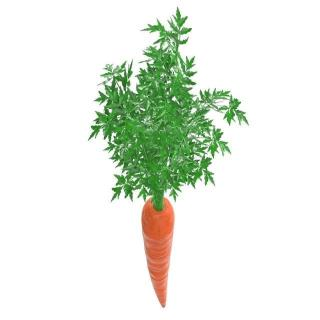carrot: (142, 195, 174, 312)
